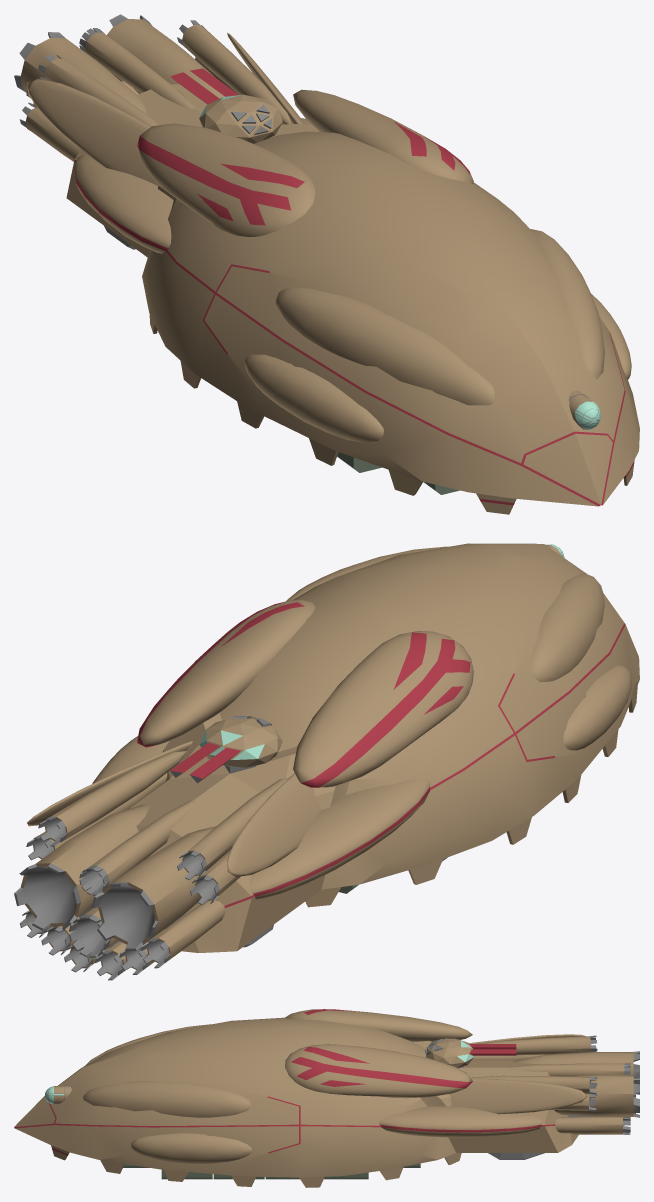
Rendered from Guild-Crash_Test_4_SyndicateTransport.fbx.
3 views of the same model, one above another, from view 1: azimuth 30°, elevation 25°; view 2: azimuth 150°, elevation 25°; view 3: azimuth 270°, elevation 25° (orthographic). The views are drawn at different scales.
Parts seen in each view (by area): view 1: Icosphere, Icosphere.004, Cylinder, Icosphere.001, Icosphere.006, Icosphere.002, Icosphere.003, Icosphere.005, Plane, Sphere; view 2: Icosphere, Cylinder, Icosphere.004, Icosphere.003, Icosphere.006, Icosphere.001, Icosphere.005, Icosphere.002, Plane; view 3: Icosphere, Icosphere.004, Cylinder, Icosphere.001, Icosphere.003, Icosphere.006, Icosphere.002, Icosphere.005, Plane, Cube.002, Sphere, Cube.001.
Part boxes in pixels (x1,y1,x2,y2): Icosphere: (66,81,639,506); Icosphere.004: (137,89,473,236); Cylinder: (14,14,291,161); Icosphere.001: (275,229,604,405); Icosphere.006: (27,32,305,185); Icosphere.002: (244,294,631,442); Icosphere.003: (74,118,311,253); Icosphere.005: (170,68,282,143); Plane: (149,314,634,514); Sphere: (569,390,601,429); Icosphere: (79,543,639,952); Cylinder: (14,751,288,980); Icosphere.004: (137,599,473,787); Icosphere.003: (92,736,430,899); Icosphere.006: (27,741,321,876); Icosphere.001: (286,546,604,682); Icosphere.005: (170,716,282,783); Icosphere.002: (563,665,631,750); Plane: (305,685,637,907); Icosphere: (14,1017,598,1177); Icosphere.004: (285,1009,472,1098); Cylinder: (470,1035,639,1134); Icosphere.001: (83,1024,250,1117); Icosphere.003: (379,1106,542,1137); Icosphere.006: (448,1034,587,1114); Icosphere.002: (131,1133,251,1163); Icosphere.005: (425,1038,516,1068); Plane: (51,1145,461,1187); Cube.002: (123,1163,420,1179); Sphere: (45,1085,71,1104); Cube.001: (488,1153,544,1159).
Bounding box in the file's own units: 9824 × 3710 × 2024.
